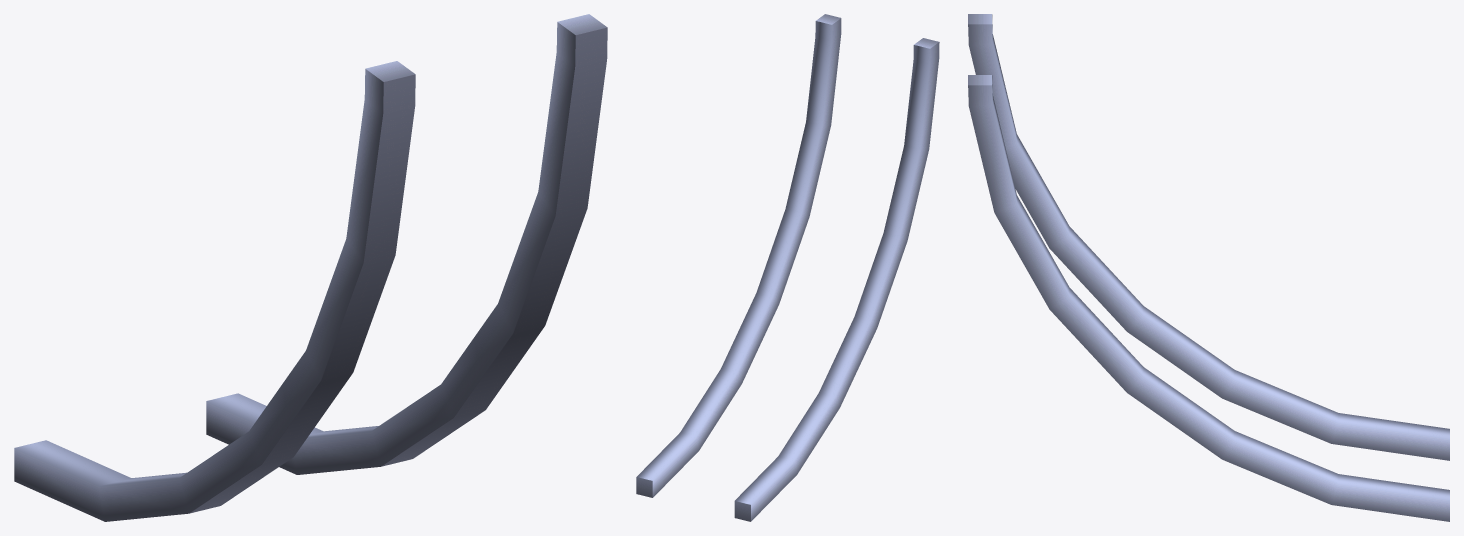
The model's file is railroad-rail-straight-bend.glb.
3 renders of one model, left to right at view 1: azimuth 30°, elevation 25°; view 2: azimuth 150°, elevation 25°; view 3: azimuth 270°, elevation 25°, orthographic. The views are drawn at different scales.
Parts seen in each view (by area): view 1: railroad-rail-straight-bend; view 2: railroad-rail-straight-bend; view 3: railroad-rail-straight-bend.
Part boxes in pixels (left/top/right/bottom): railroad-rail-straight-bend: left=14, top=14, right=607, bottom=521; railroad-rail-straight-bend: left=636, top=14, right=939, bottom=521; railroad-rail-straight-bend: left=968, top=14, right=1449, bottom=521.
Bounding box in the file's own units: 0.7 × 2 × 2.
1 material, 1 textured.
